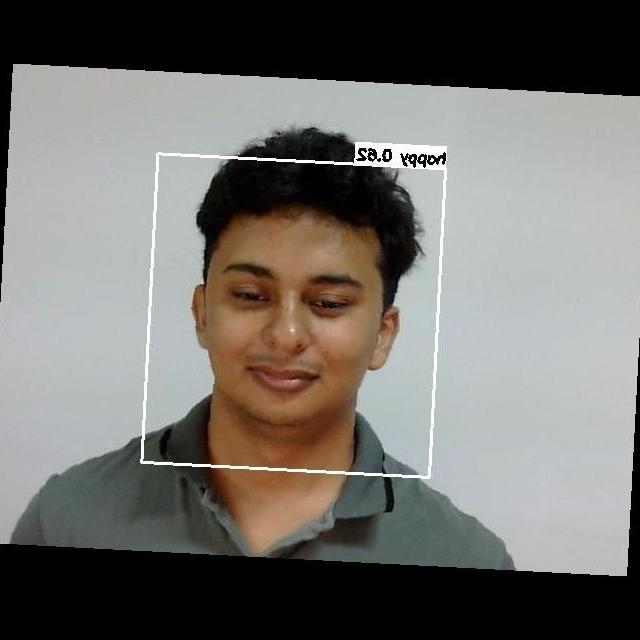Happy: (205, 242, 378, 409)
